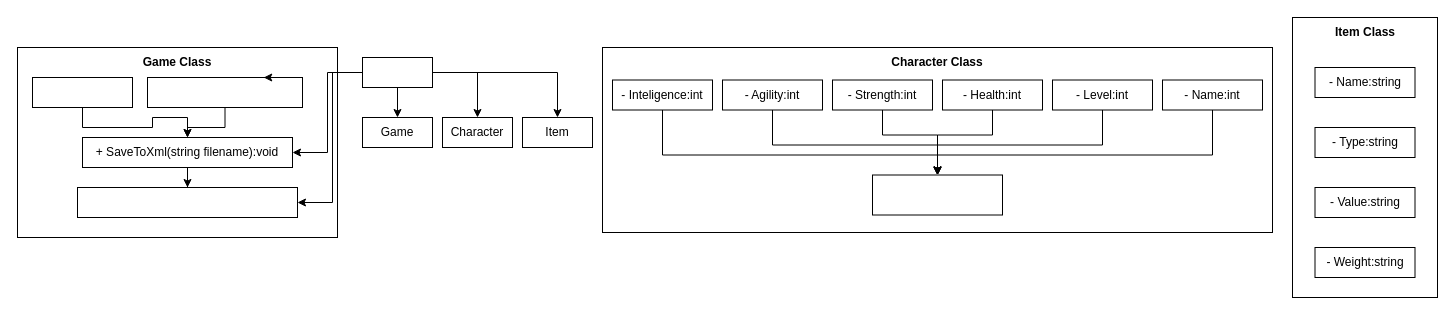
The diagram is 1455 pixels wide and 315 high, and some of its shapes have lost their labels. The shapes that lost their labels are listed below. From the top down, each one's centre as x and y in pixels, then its label:
At [82,92]: "Items:List<Item>".
At [224,92]: "Characters:List<Character>".
At [397,72]: "Program".
At [187,202]: "+ LoadFromXml(string filename):Game".
At [937,194]: "- Inventory:List<item>".
